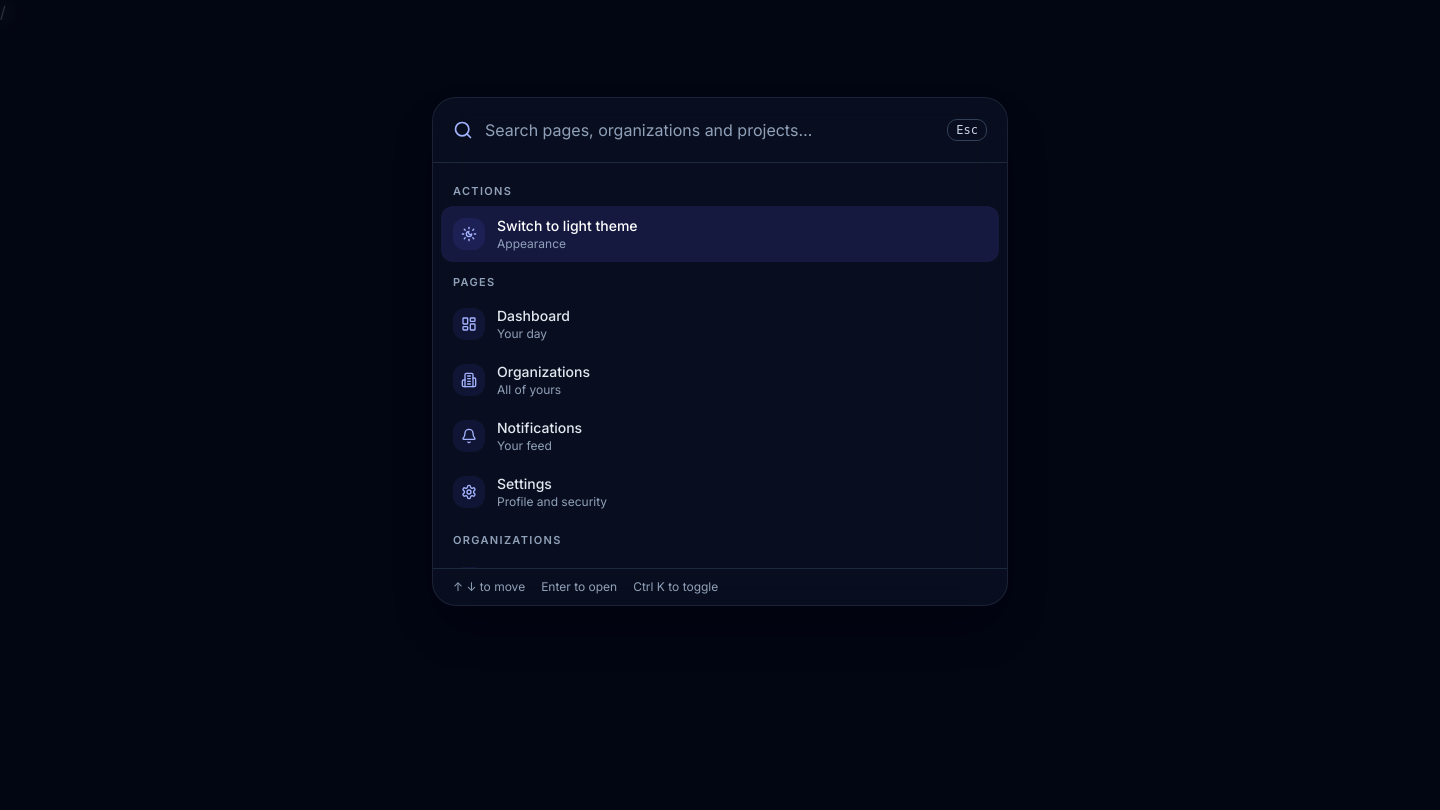
Test: CommandPalette › finds the viewer's projects and opens one from the keyboard
The width and height of the screenshot is (1440, 810).
Type "calc" into the dropdown labelled "Search pages, organizations and projects…".
click(710, 130); type("calc")  # box 485,114 -> 935,146
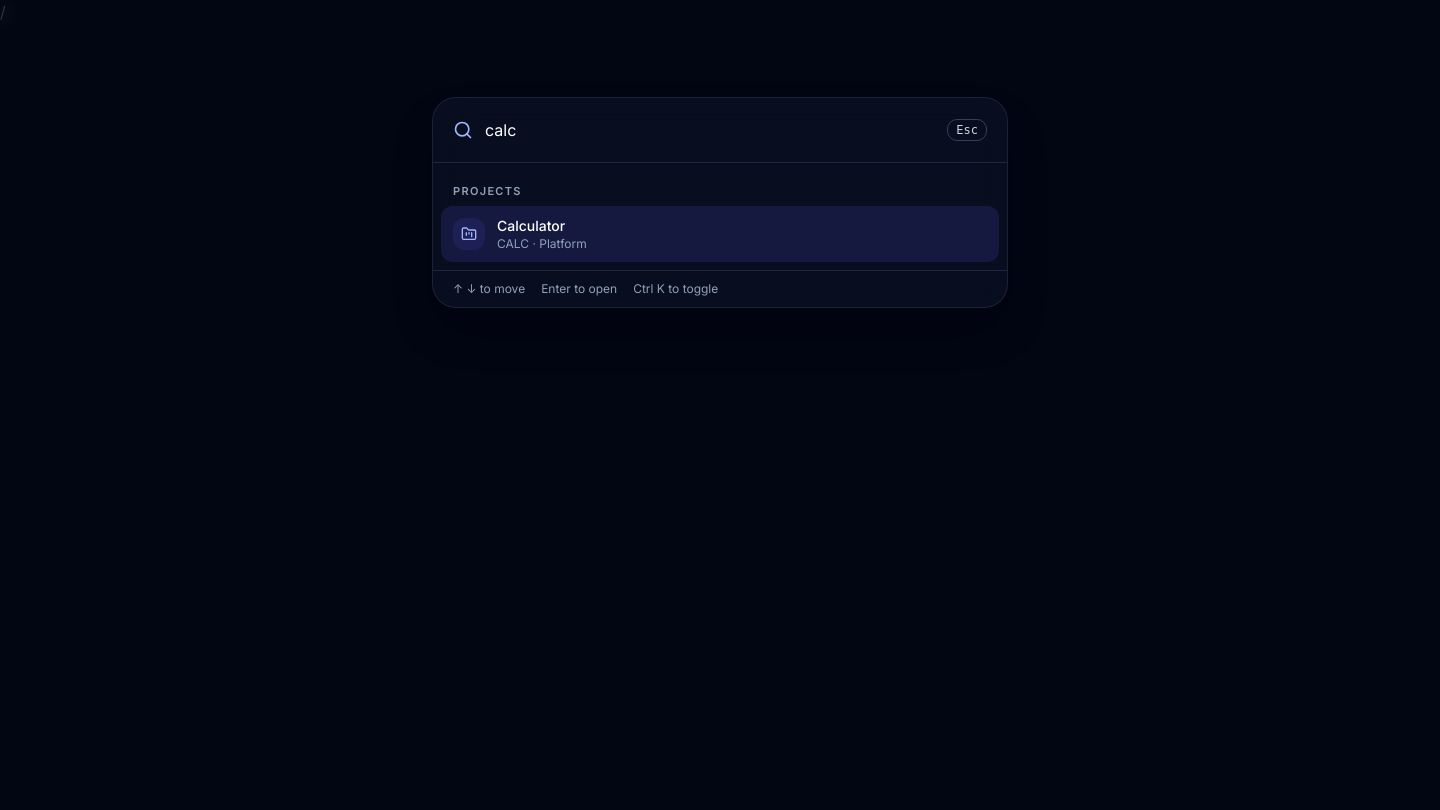
expect the option "Website" is not shown: met
Press Enter
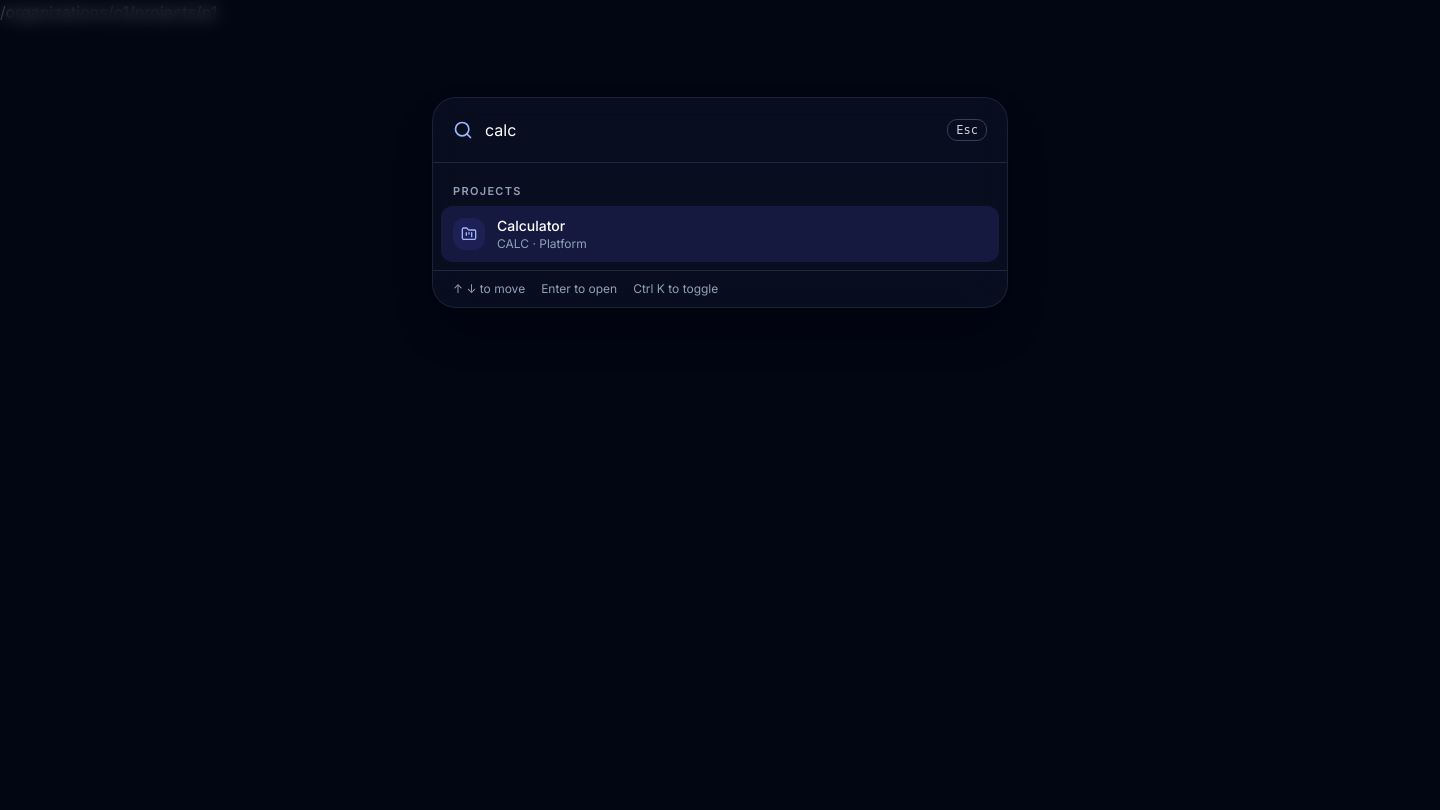
expect the text with test id "where" reads "/organizations/o1/projects/p1": met, box 0,2 -> 217,22
